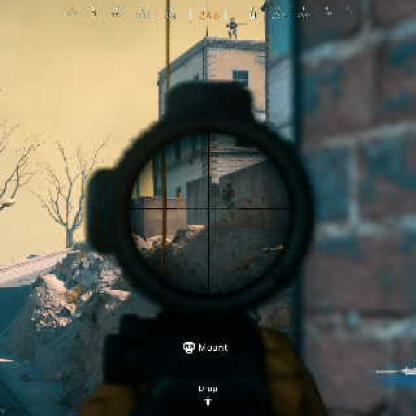enemy: (221, 184, 238, 209), (226, 17, 241, 39)
